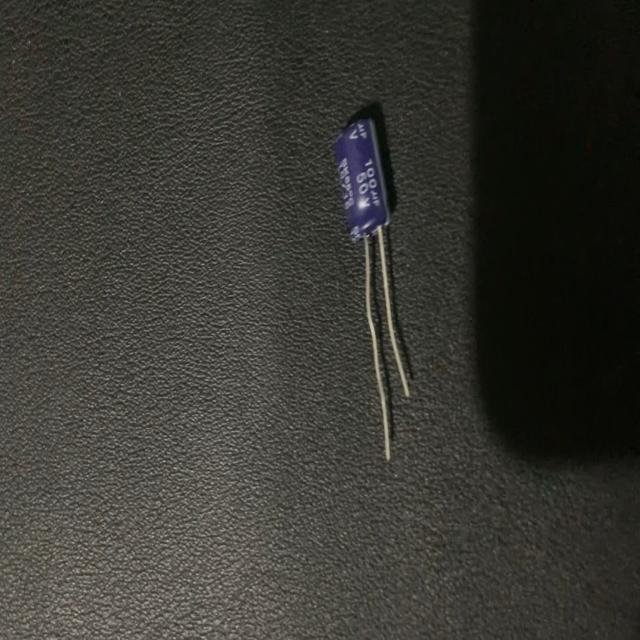capacitor: (329, 121, 408, 459)
